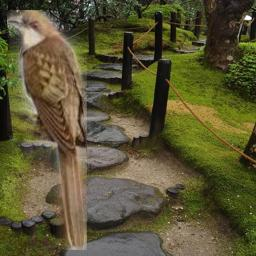Cuckoo: (7, 10, 87, 250)
